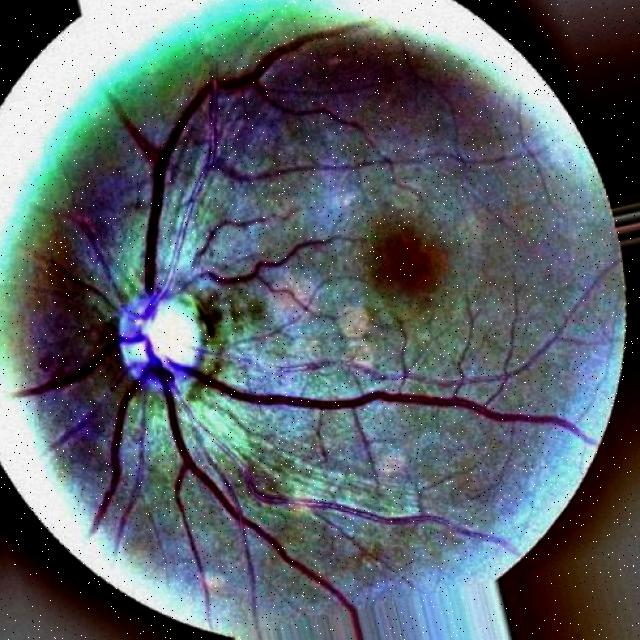Macula: (350, 223, 469, 310)
Nerves: (194, 372, 356, 413), (164, 401, 221, 501), (139, 136, 174, 265), (101, 384, 137, 497), (40, 348, 102, 396)
Optic Disk: (110, 277, 220, 389)
